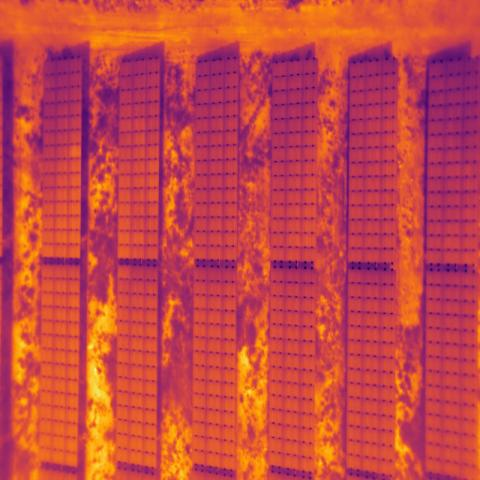fault: (68, 145, 81, 159)
